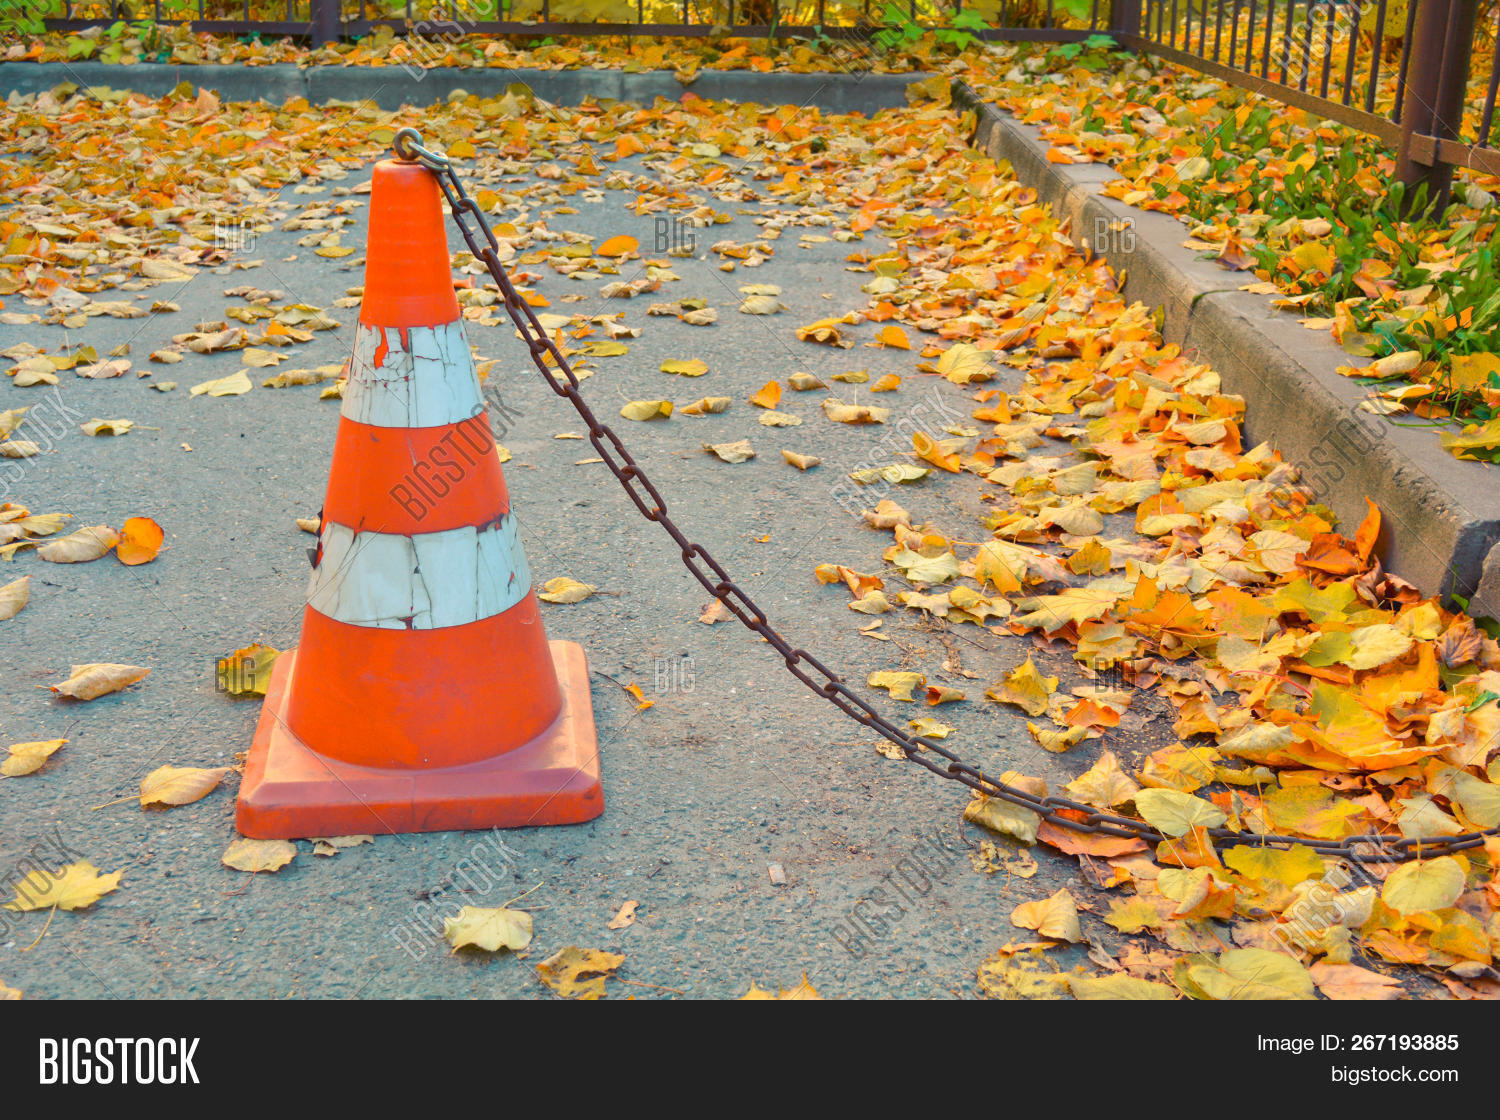cones: (231, 146, 616, 848)
